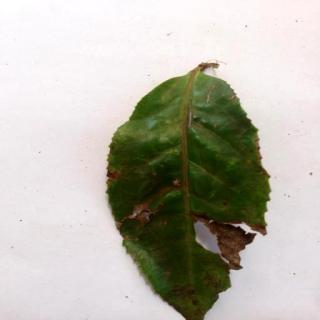Algal Leaf: (107, 63, 272, 320)
